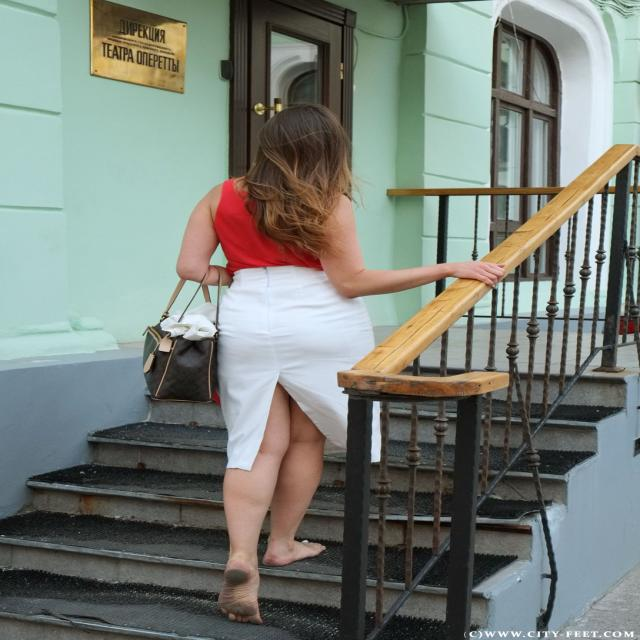Barefoots: (218, 560, 263, 624), (262, 540, 326, 566)
